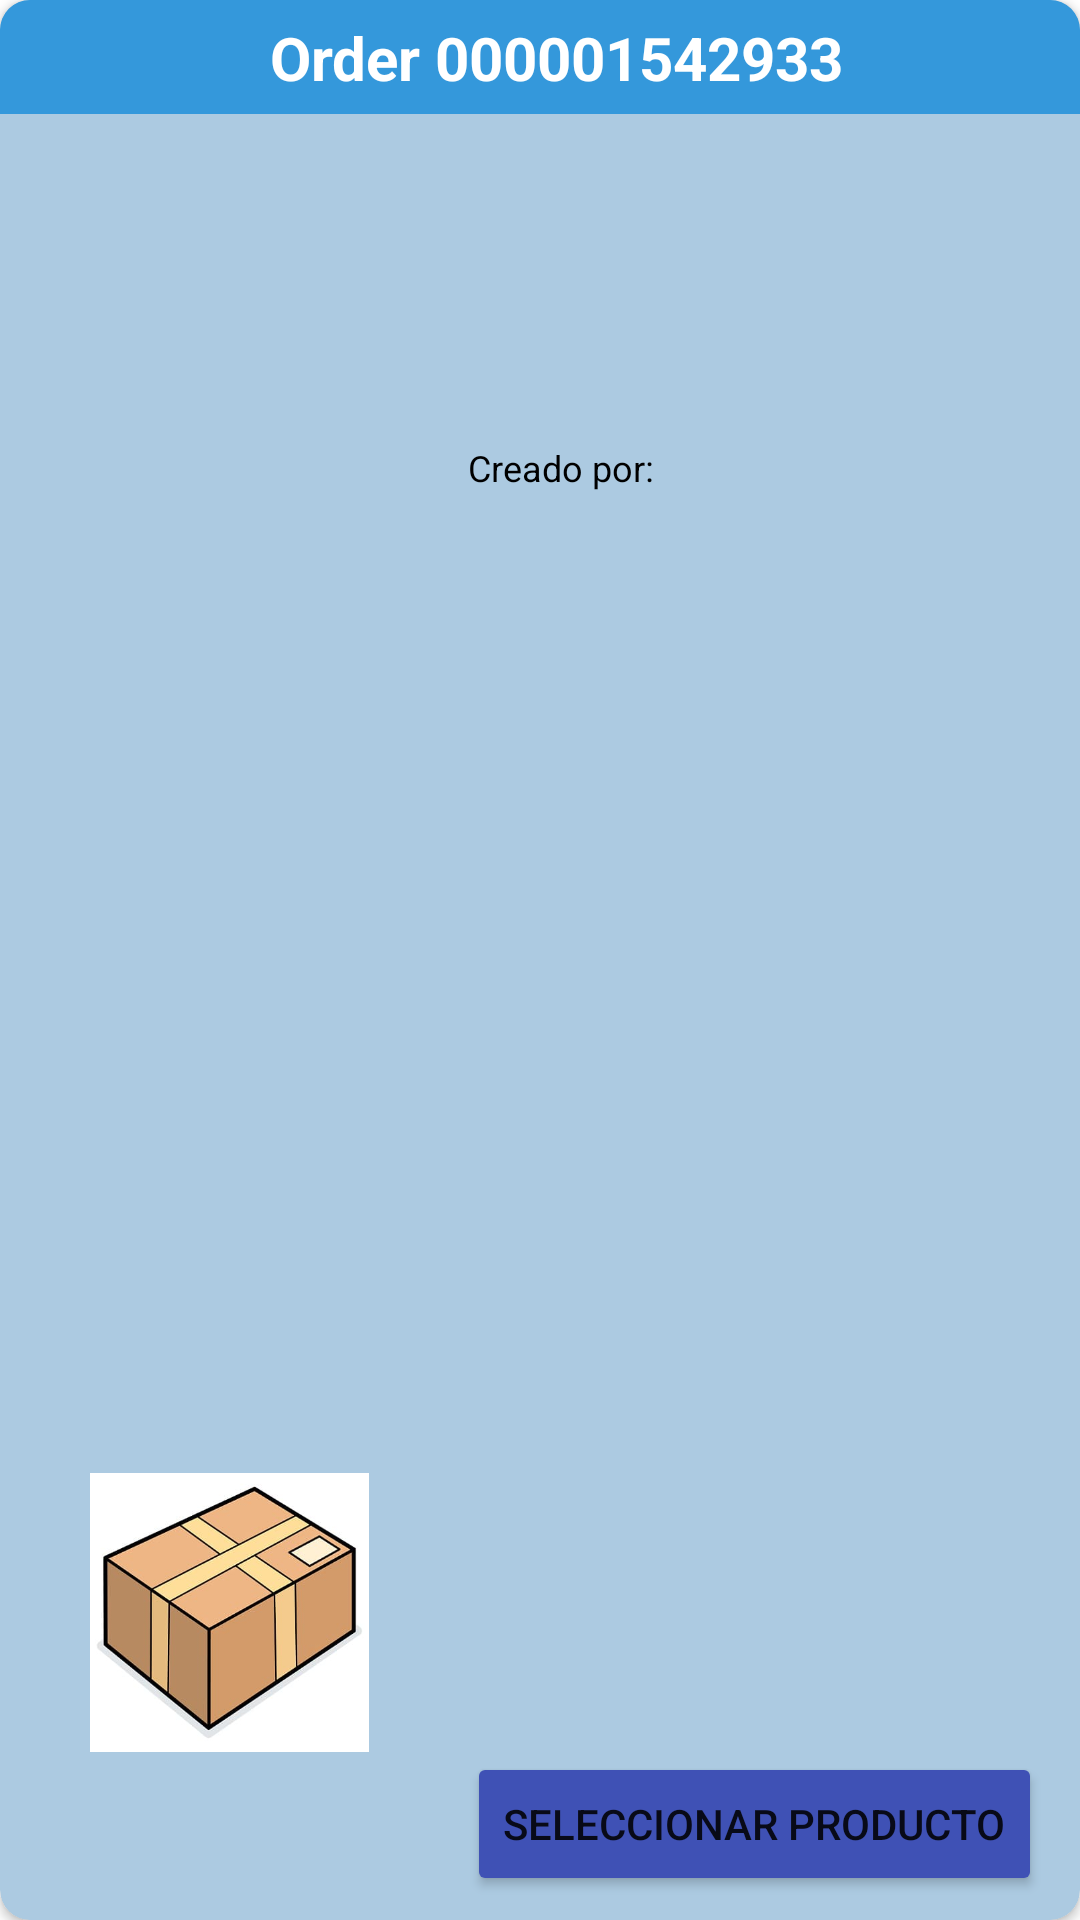

Named icons in this screenshot (1080 x 1920) and their centers, (x,y):
cajaaaa: (229,1612)
